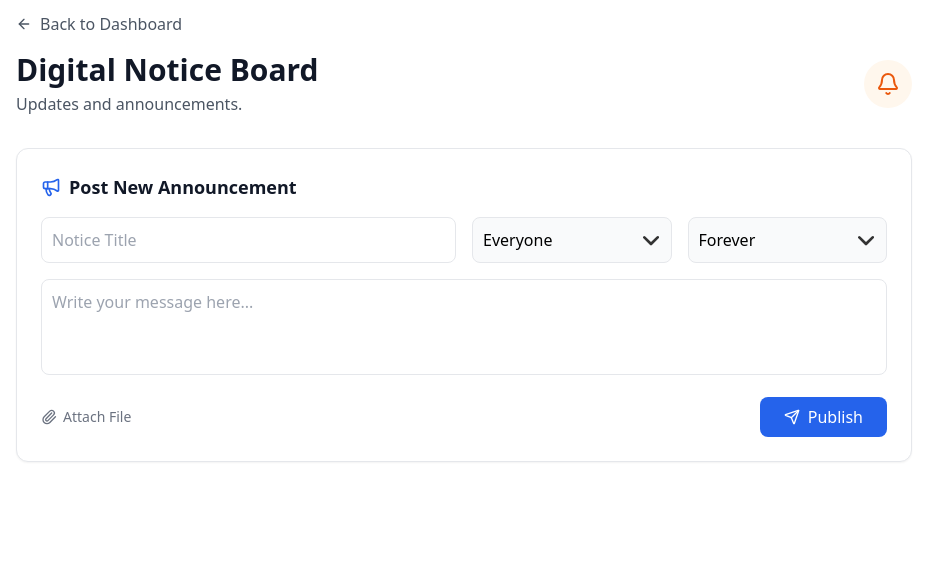
Test: NoticesPage Component › handles posting a new notice successfully
The image size is (929, 561).
Step 1. Type "New Event" into the field with placeholder "Notice Title" → (248, 240), box left=41, top=217, right=456, bottom=263
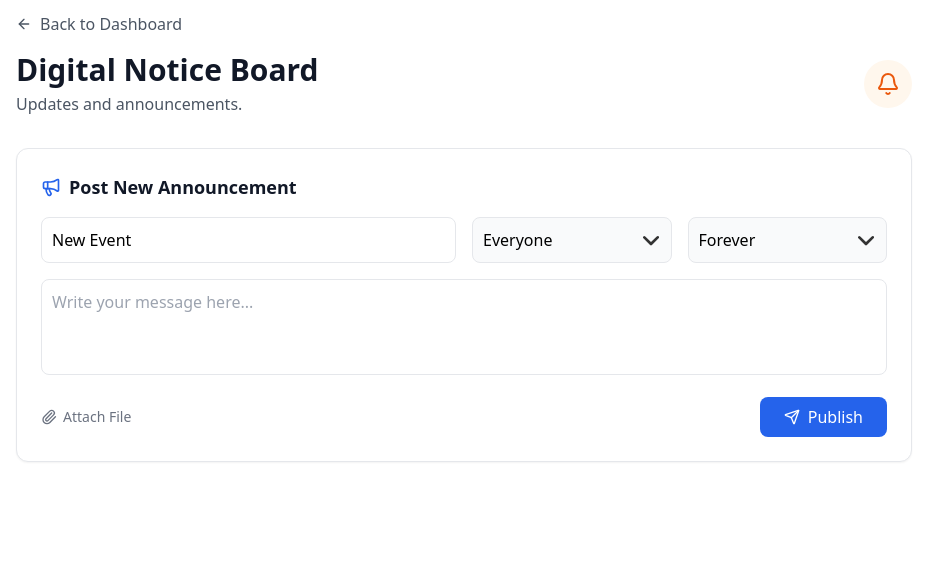
Step 2. Type "Event details here." into the text box with placeholder "Write your message here..." → (464, 327), box left=41, top=279, right=887, bottom=375
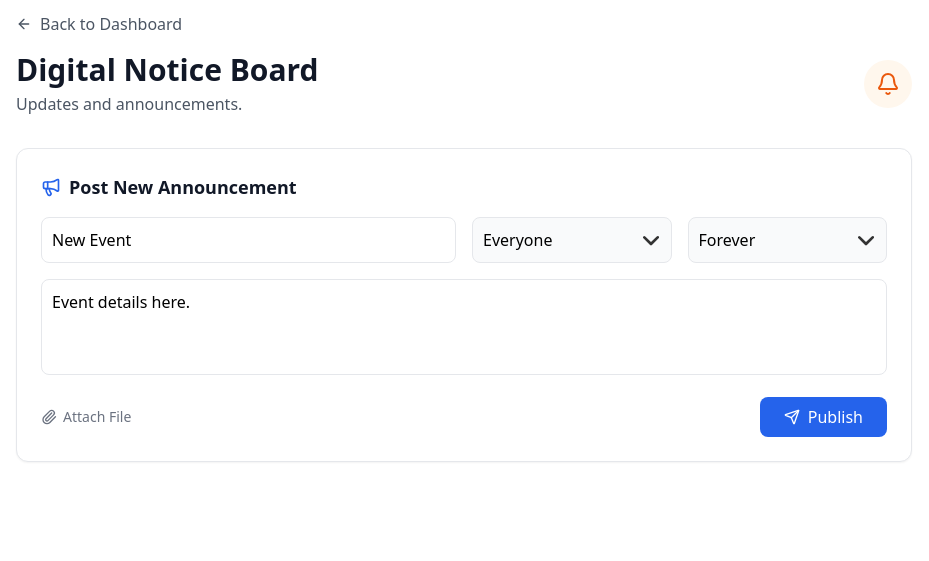
Step 3. Click the button "Publish" → (823, 417), box left=760, top=397, right=887, bottom=437
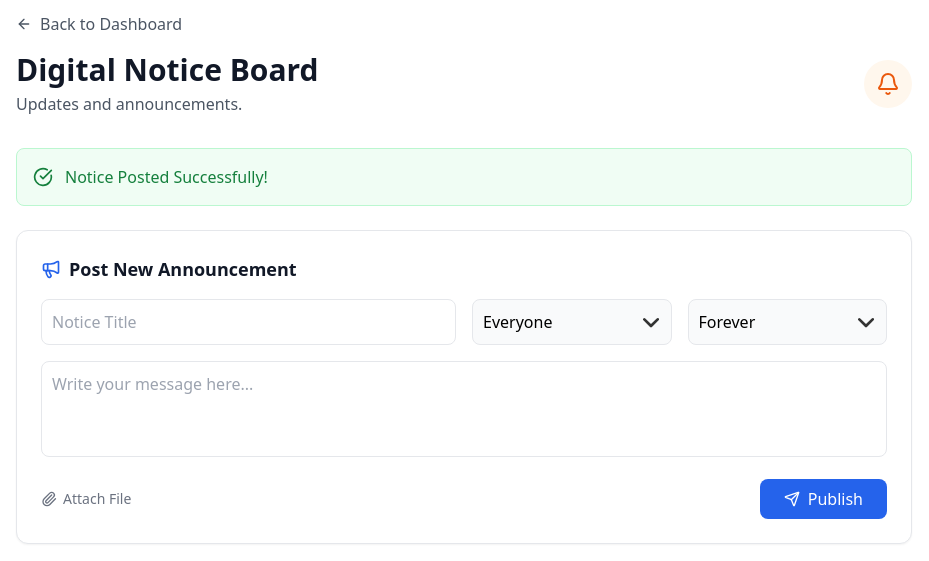
Result: the text "Notice Posted Successfully!" is shown at left=65, top=165, right=268, bottom=189
